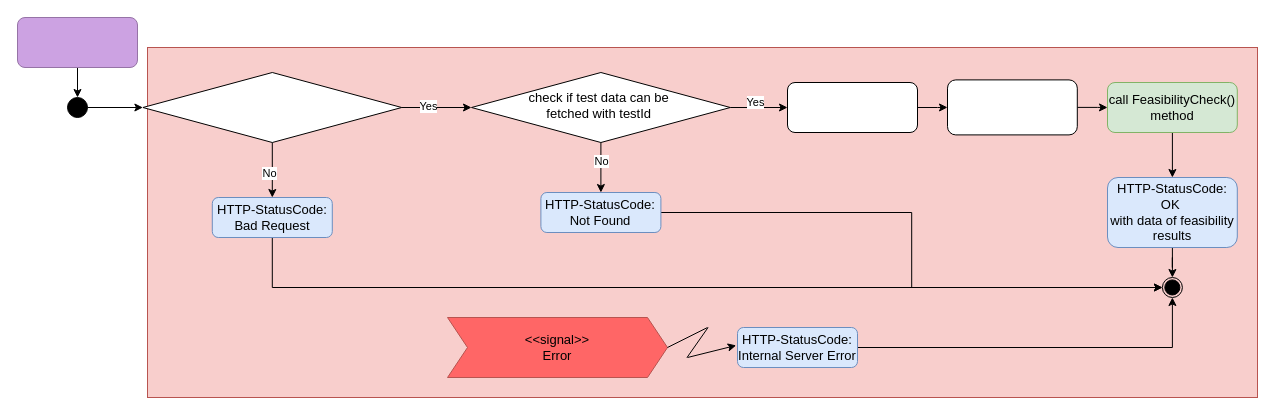
Some shapes in this 1275 by 415 pixel diagram are drawn without their labels. The shapes that lost their labels are listed below. From the top down, each one's centre as x and y in pixels, then its label:
(77,42): "Submit for Feasibility Check" Button clicked
(272,107): check if testId input is valid
(852,107): update state of test to feasibilityrequested
(1011,107): set old feasibility results to invalid if there are any
